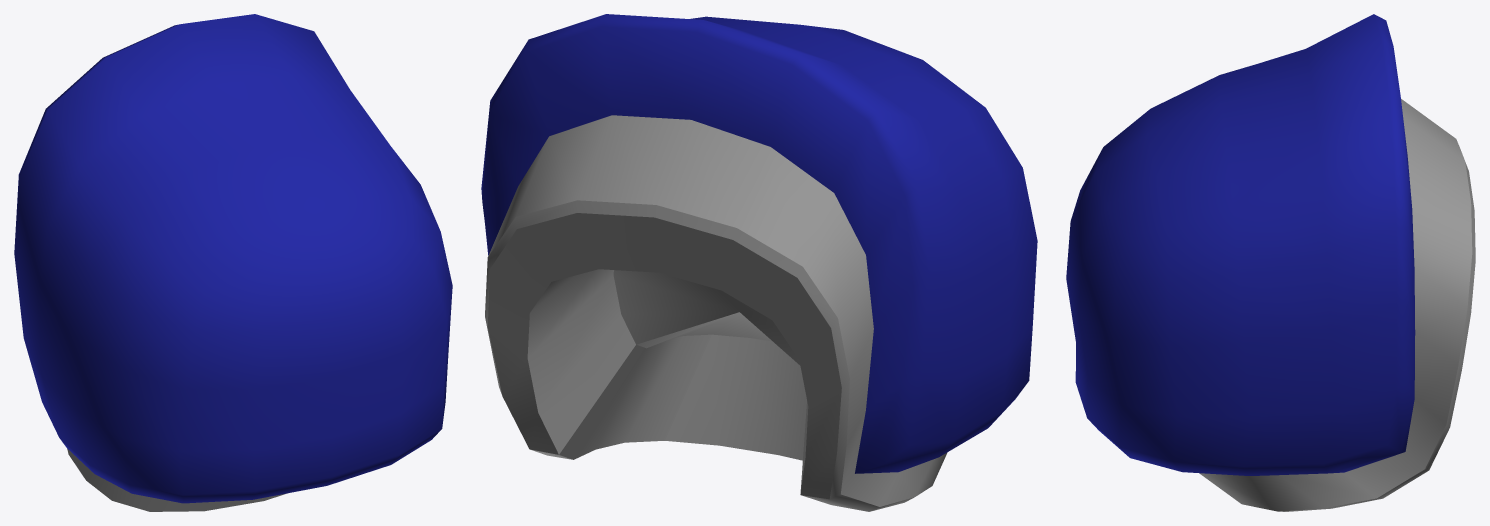
File: Chonk_Shoulder1.FBX
3 views of the same model, side by side, from view 1: azimuth 30°, elevation 25°; view 2: azimuth 150°, elevation 25°; view 3: azimuth 270°, elevation 25° (orthographic). The views are drawn at different scales.
Parts seen in each view (by area): view 1: Object079; view 2: Object079; view 3: Object079.
Part boxes in pixels (bbox=[...]): Object079: bbox=[14, 14, 452, 511]; Object079: bbox=[481, 14, 1037, 511]; Object079: bbox=[1066, 14, 1475, 511].
Bounding box in the file's own units: 53.1 × 58.04 × 51.61.
